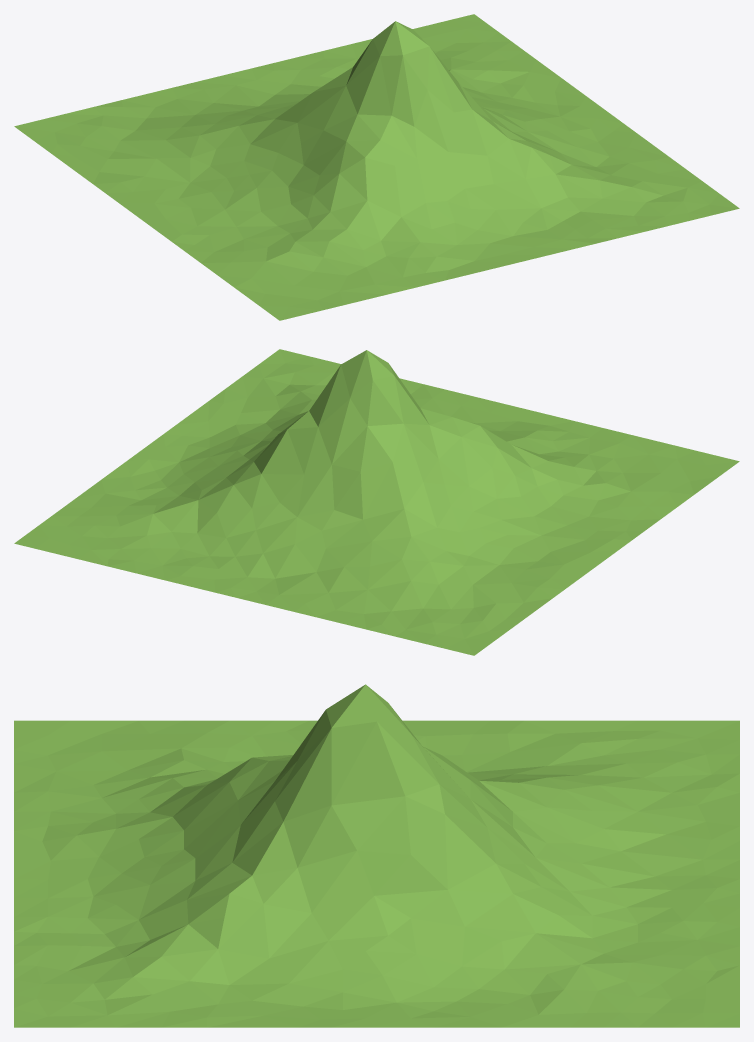
The model's file is MT_Terrain_M_a_23.fbx.
3 views of the same model, one above another, from view 1: azimuth 30°, elevation 25°; view 2: azimuth 150°, elevation 25°; view 3: azimuth 270°, elevation 25° (orthographic). The views are drawn at different scales.
Visible parts, largest first — view 1: MT_Terrain_M_a_23; view 2: MT_Terrain_M_a_23; view 3: MT_Terrain_M_a_23.
Part boxes in pixels (<box>): MT_Terrain_M_a_23: <box>14,14,739,320</box>; MT_Terrain_M_a_23: <box>14,349,739,655</box>; MT_Terrain_M_a_23: <box>14,684,739,1027</box>.
Bounding box in the file's own units: 5000 × 1538 × 5000.
